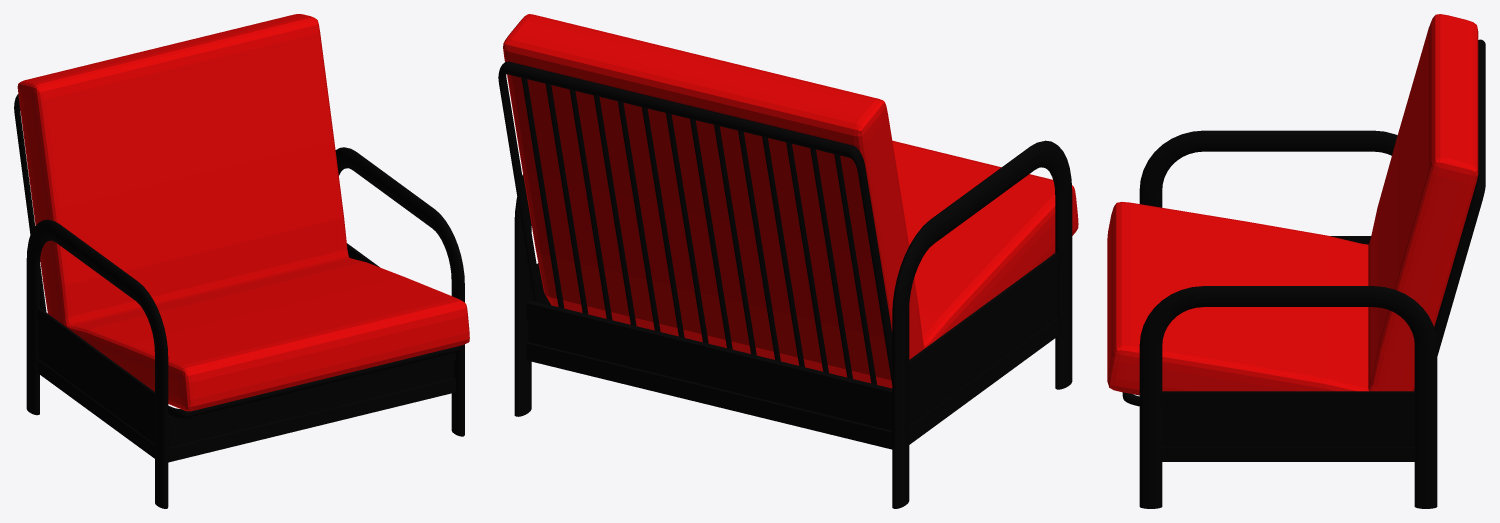
Rendered from sh-kl-futon-couch.glb.
3 views of the same model, side by side, from view 1: azimuth 30°, elevation 25°; view 2: azimuth 150°, elevation 25°; view 3: azimuth 270°, elevation 25° (orthographic). The views are drawn at different scales.
Visible parts, largest first — view 1: Futon_matress_Futon_mattress, Futon_frame; view 2: Futon_matress_Futon_mattress, Futon_frame; view 3: Futon_matress_Futon_mattress, Futon_frame.
Boxes of the visible parts, bbox=[...] form: Futon_matress_Futon_mattress: bbox=[17, 14, 469, 411]; Futon_frame: bbox=[14, 94, 464, 508]; Futon_matress_Futon_mattress: bbox=[503, 14, 1078, 388]; Futon_frame: bbox=[498, 61, 1072, 508]; Futon_matress_Futon_mattress: bbox=[1107, 14, 1478, 394]; Futon_frame: bbox=[1122, 39, 1485, 508].
Size of the model in its own units: 1 by 1 by 1.
